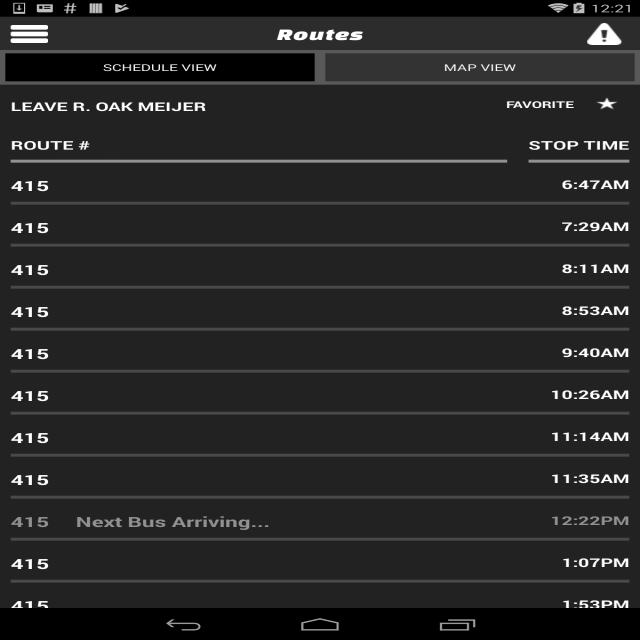Button: (5, 54, 315, 82), (325, 54, 635, 82)
ImageButton: (0, 18, 59, 50)
ImageView: (584, 91, 630, 117), (587, 23, 622, 45)
TextView: (11, 176, 536, 195), (11, 218, 536, 237), (11, 260, 536, 279), (11, 302, 536, 321), (11, 344, 536, 363), (11, 554, 536, 573), (11, 596, 536, 615), (11, 386, 529, 405), (11, 428, 529, 447), (11, 470, 529, 489), (11, 512, 529, 531), (11, 137, 507, 153), (11, 98, 496, 114), (528, 137, 630, 153), (277, 25, 363, 43), (550, 386, 630, 402), (550, 428, 630, 444), (550, 470, 630, 486), (550, 512, 630, 528), (557, 176, 629, 192), (557, 218, 629, 234), (557, 260, 629, 276), (557, 302, 629, 318), (557, 344, 629, 360), (557, 554, 629, 570), (557, 596, 629, 612), (506, 98, 574, 111)
